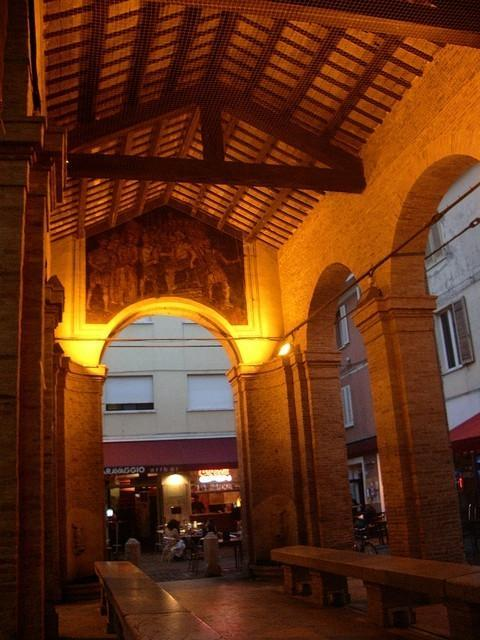bicycle: (185, 538, 207, 574), (355, 529, 378, 555)
